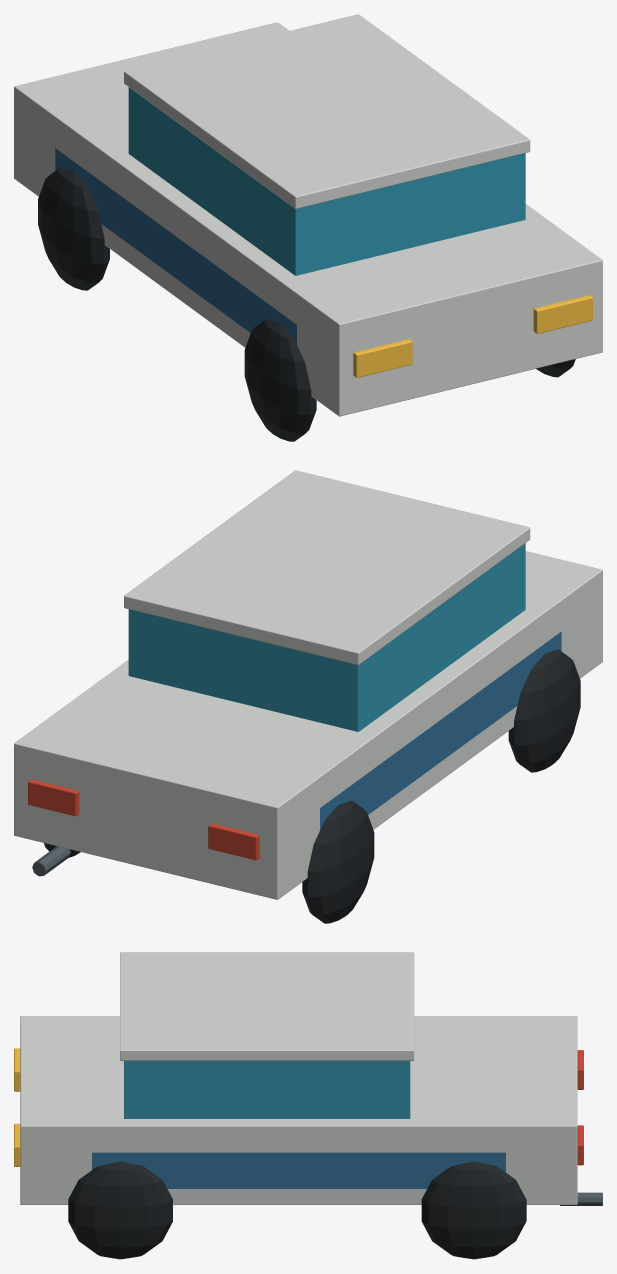
File: SAF_POLICE_CAR_01.fbx
The picture shows the model from 3 angles, top to bottom: view 1: azimuth 30°, elevation 25°; view 2: azimuth 150°, elevation 25°; view 3: azimuth 270°, elevation 25°; orthographic projection. The views are drawn at different scales.
Visible parts, largest first — view 1: SAF_POLICE_CAR_01; view 2: SAF_POLICE_CAR_01; view 3: SAF_POLICE_CAR_01.
Part boxes in pixels (bbox=[...]): SAF_POLICE_CAR_01: bbox=[14, 14, 602, 441]; SAF_POLICE_CAR_01: bbox=[14, 470, 602, 923]; SAF_POLICE_CAR_01: bbox=[14, 952, 602, 1259].
Bounding box in the file's own units: 187 × 141 × 370.
